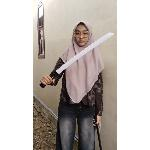Pedang: (40, 28, 117, 90)
